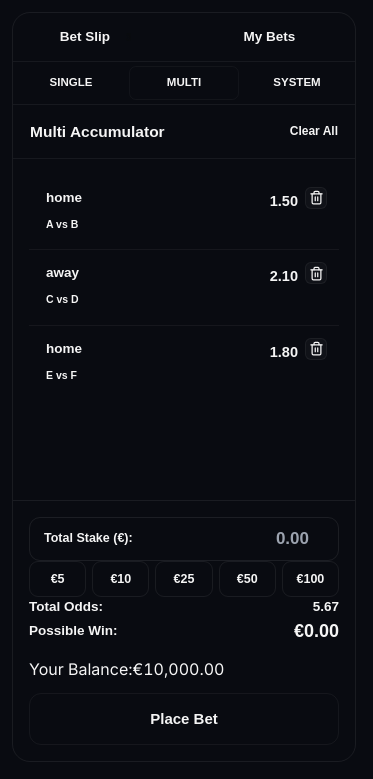
Test: RightSidebar (component tests) › shows System mode only when 3+ bets and allows size selection
Click the button "System" at (297, 83), box [243,66,351,100]
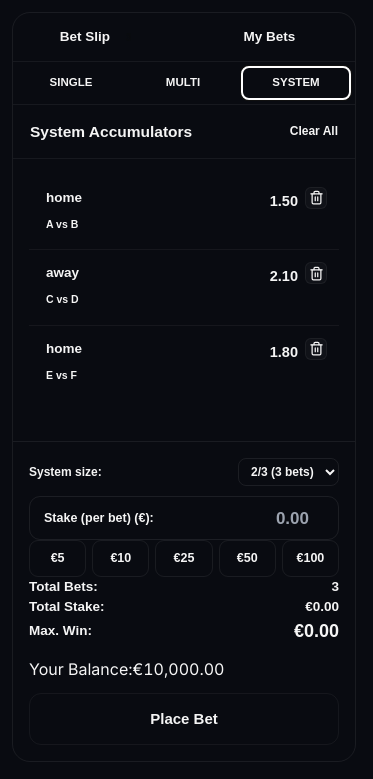
Expected: the text "System size:" is shown, [29,463,102,481]
Expected: the text "Total Bets:" is shown, [29,577,98,597]
